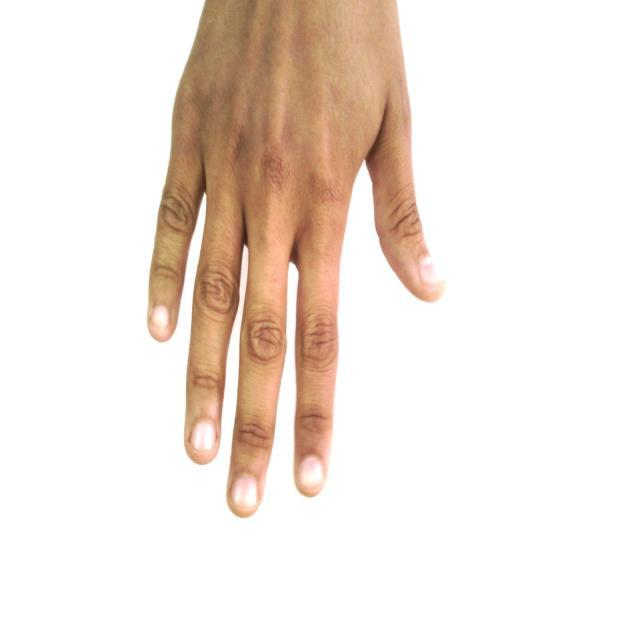Fingernail: (299, 456, 323, 490), (192, 420, 216, 451), (233, 476, 257, 507), (421, 258, 443, 288), (152, 306, 169, 329)
